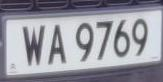6: (112, 15, 132, 65)
7: (94, 18, 115, 66)
9: (73, 20, 97, 68), (131, 15, 151, 63)
A: (46, 19, 69, 73)
W: (22, 20, 46, 71)
